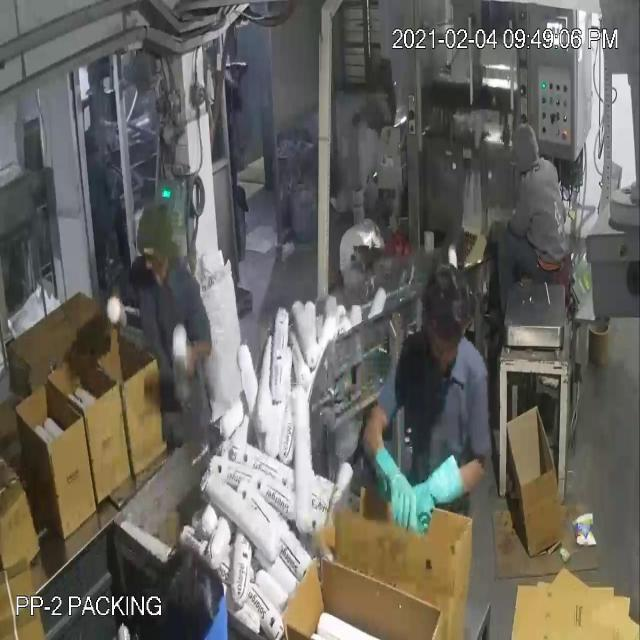Gloves: (50, 55, 443, 490)
